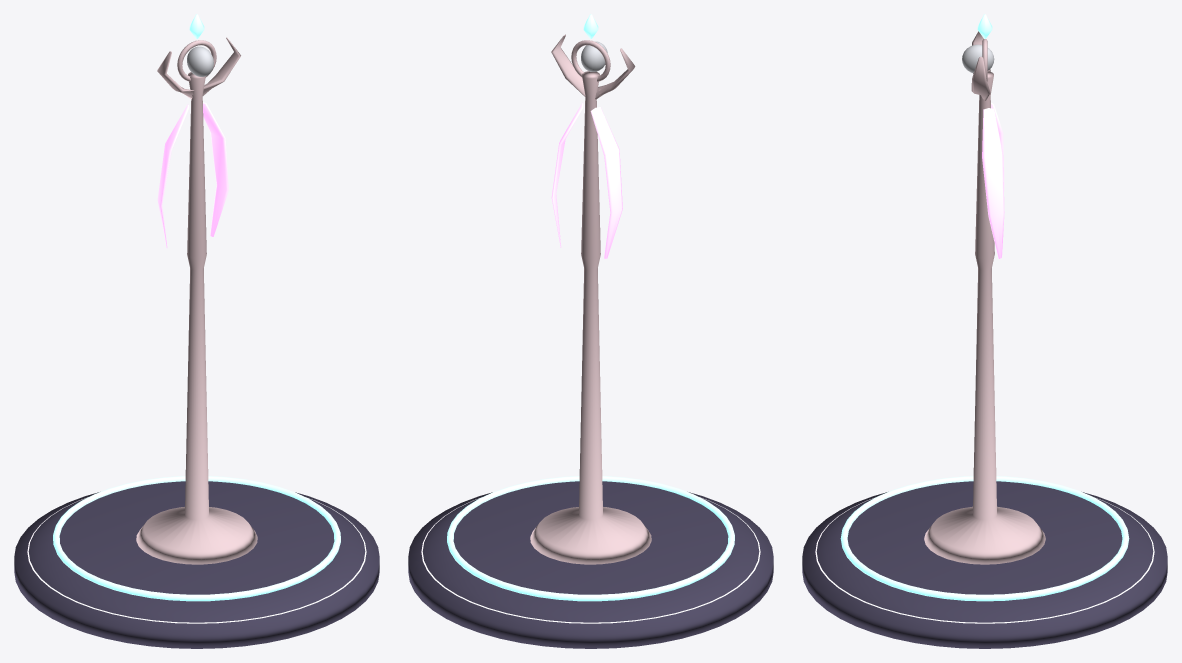
The model's file is webtoon-kpop-stage-crown-mic-stand-v15.glb.
3 renders of one model, left to right at view 1: azimuth 30°, elevation 25°; view 2: azimuth 150°, elevation 25°; view 3: azimuth 270°, elevation 25°, orthographic.
Visible parts, largest first — view 1: StageStarlightPodium, StageRoseGoldMicStand, StageHoloCyanCrownGem, StageNeonMagentaRibbons, StageVocalCapsuleMesh; view 2: StageStarlightPodium, StageRoseGoldMicStand, StageHoloCyanCrownGem, StageNeonMagentaRibbons, StageVocalCapsuleMesh; view 3: StageStarlightPodium, StageRoseGoldMicStand, StageHoloCyanCrownGem, StageNeonMagentaRibbons, StageVocalCapsuleMesh.
Part boxes in pixels (x1,y1,x2,y2): StageStarlightPodium: (14, 481, 379, 648); StageRoseGoldMicStand: (136, 37, 257, 564); StageHoloCyanCrownGem: (53, 14, 340, 601); StageNeonMagentaRibbons: (27, 102, 366, 623); StageVocalCapsuleMesh: (187, 46, 213, 76); StageStarlightPodium: (408, 481, 773, 648); StageRoseGoldMicStand: (530, 34, 651, 564); StageHoloCyanCrownGem: (447, 14, 734, 601); StageNeonMagentaRibbons: (421, 102, 760, 623); StageVocalCapsuleMesh: (581, 41, 607, 71); StageStarlightPodium: (802, 481, 1167, 648); StageRoseGoldMicStand: (924, 31, 1045, 564); StageHoloCyanCrownGem: (840, 14, 1129, 601); StageNeonMagentaRibbons: (815, 102, 1154, 623); StageVocalCapsuleMesh: (962, 44, 994, 73).
Size of the model in its own units: 0.96 by 1.62 by 0.96.
